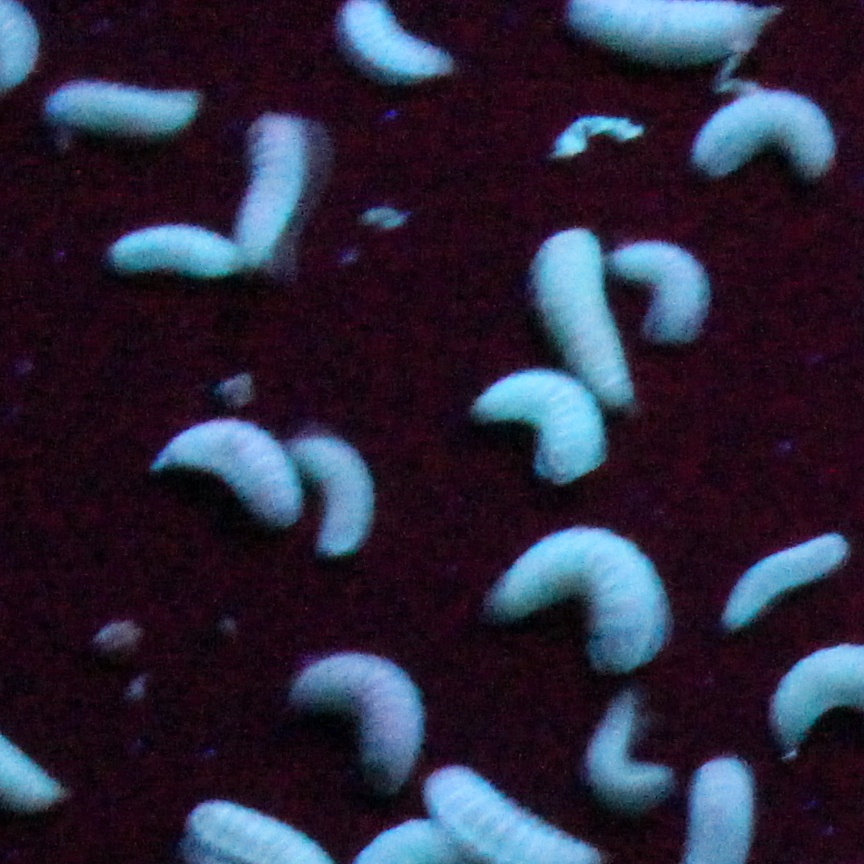larve: (494, 526, 666, 675), (292, 642, 413, 782), (536, 228, 629, 406), (166, 420, 290, 517), (236, 113, 313, 256), (485, 375, 597, 471), (701, 96, 832, 175), (615, 242, 704, 345), (729, 529, 838, 612), (304, 443, 373, 552), (50, 82, 187, 133), (597, 694, 664, 792), (115, 224, 229, 270)
